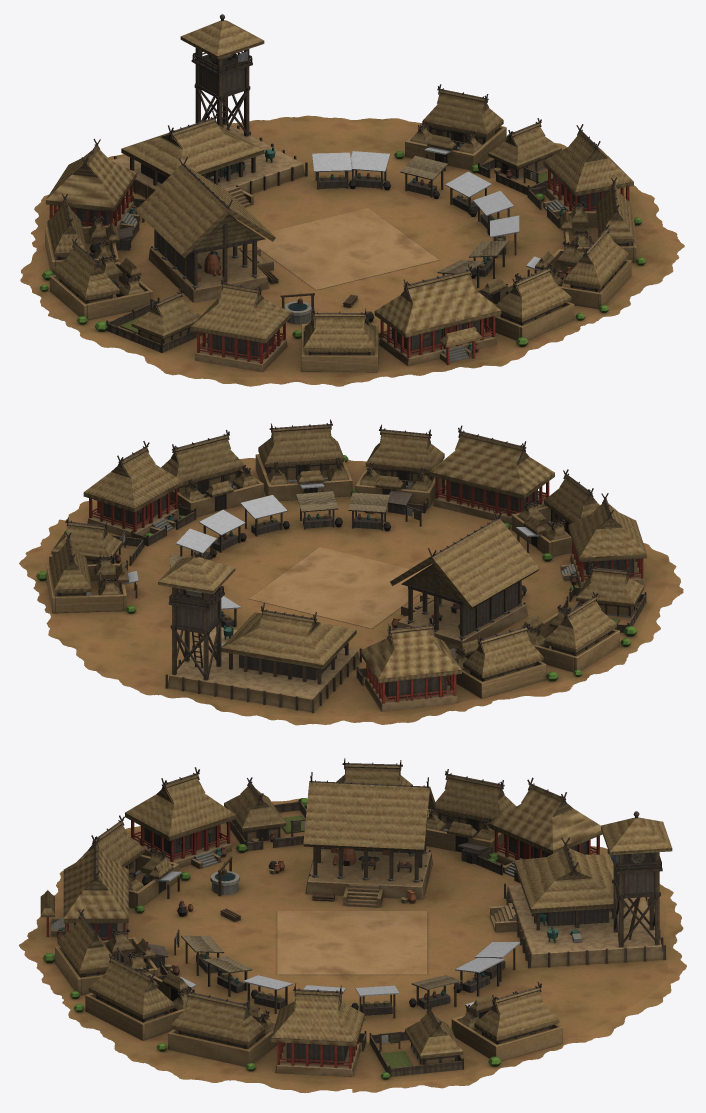
File: bronze-town-medium-b-sinic.glb
3 views of the same model, one above another, from view 1: azimuth 30°, elevation 25°; view 2: azimuth 150°, elevation 25°; view 3: azimuth 270°, elevation 25° (orthographic). The views are drawn at different scales.
Parts seen in each view (by area): view 1: LOD0; view 2: LOD0; view 3: LOD0.
Part boxes in pixels (left/top/right/bottom): LOD0: left=20, top=14, right=684, bottom=386; LOD0: left=19, top=419, right=683, bottom=725; LOD0: left=19, top=758, right=686, bottom=1092.
Size of what is drawn, in the model's own units: 5.92 by 1.3 by 5.6.
Materials: 3 (3 with a texture image).
